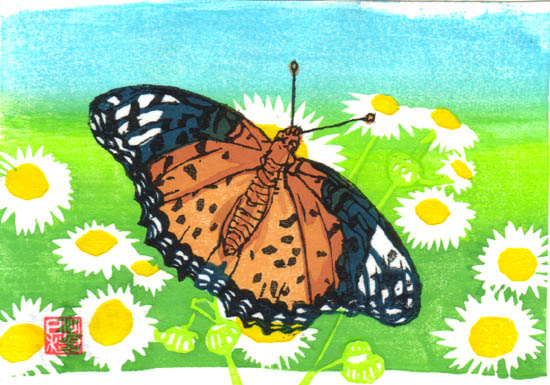Argyreus hyperbius: (80, 56, 422, 331)
butterfly: (82, 58, 424, 333)
